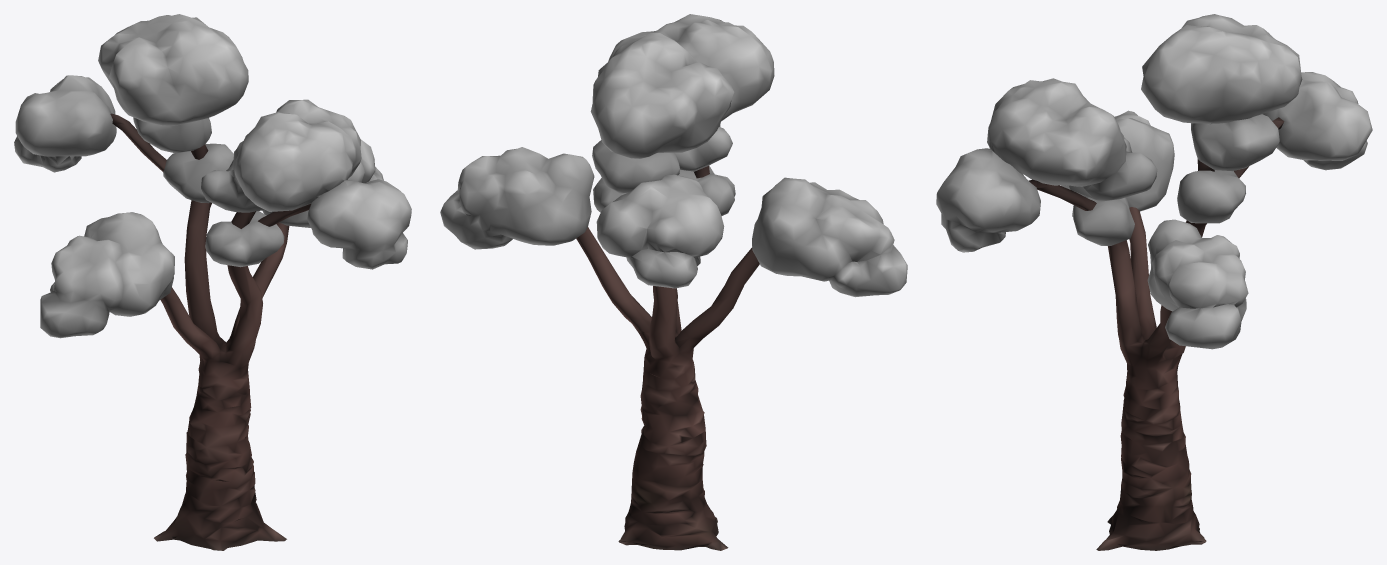
Rendered from cherry_b.glb.
3 views of the same model, side by side, from view 1: azimuth 30°, elevation 25°; view 2: azimuth 150°, elevation 25°; view 3: azimuth 270°, elevation 25° (orthographic). The views are drawn at different scales.
Parts seen in each view (by area): view 1: cherry_b_LOD0; view 2: cherry_b_LOD0; view 3: cherry_b_LOD0.
Part boxes in pixels (left/top/right/bottom): cherry_b_LOD0: left=14, top=14, right=411, bottom=550; cherry_b_LOD0: left=440, top=14, right=907, bottom=550; cherry_b_LOD0: left=936, top=14, right=1372, bottom=550.
Size of what is drawn, in the model's own units: 4.91 by 5.88 by 4.65.
